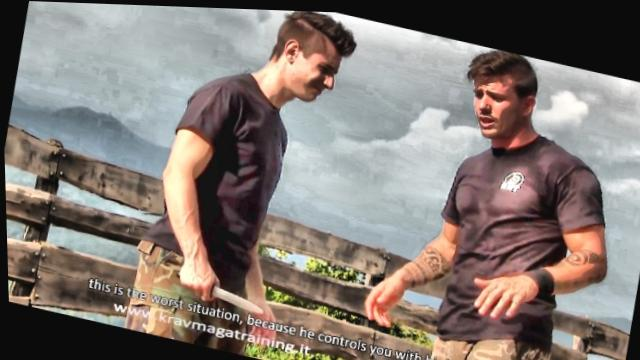knife: (166, 263, 268, 316)
